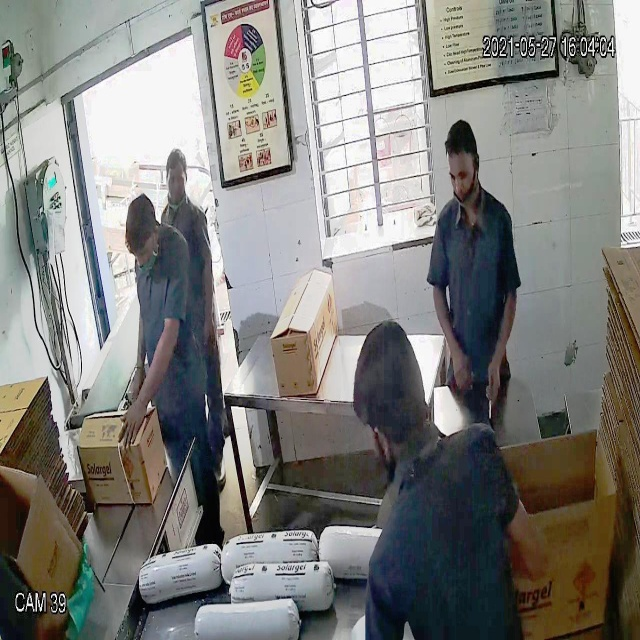Sin_gafas: (442, 156, 478, 194)
